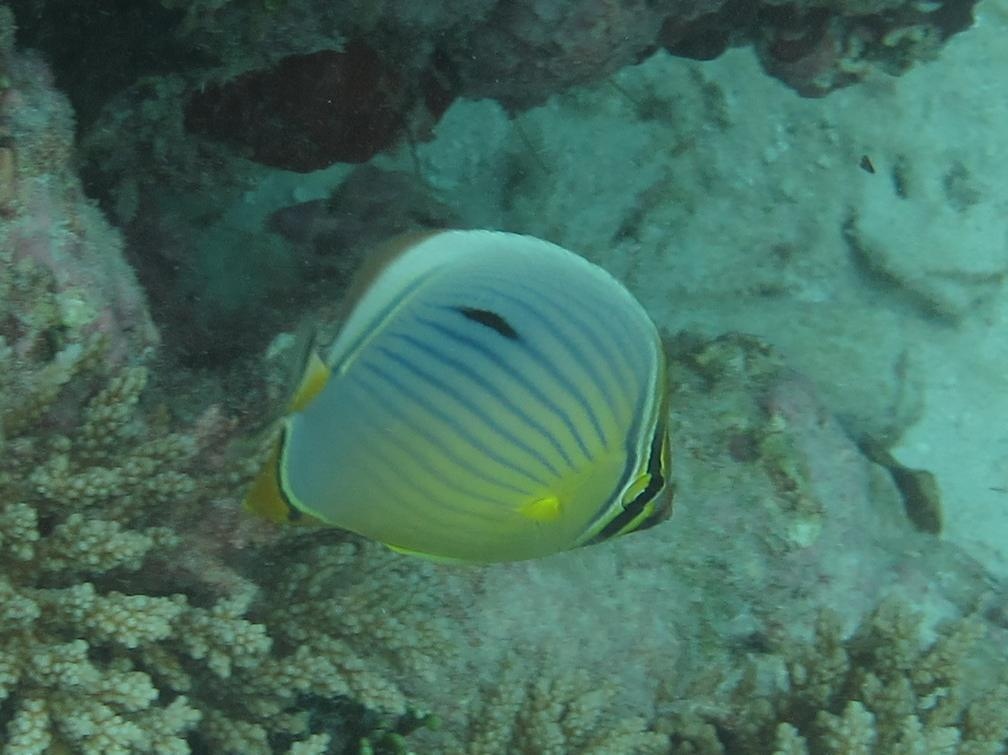Chaetodon trifasciatus: (244, 196, 698, 578)
